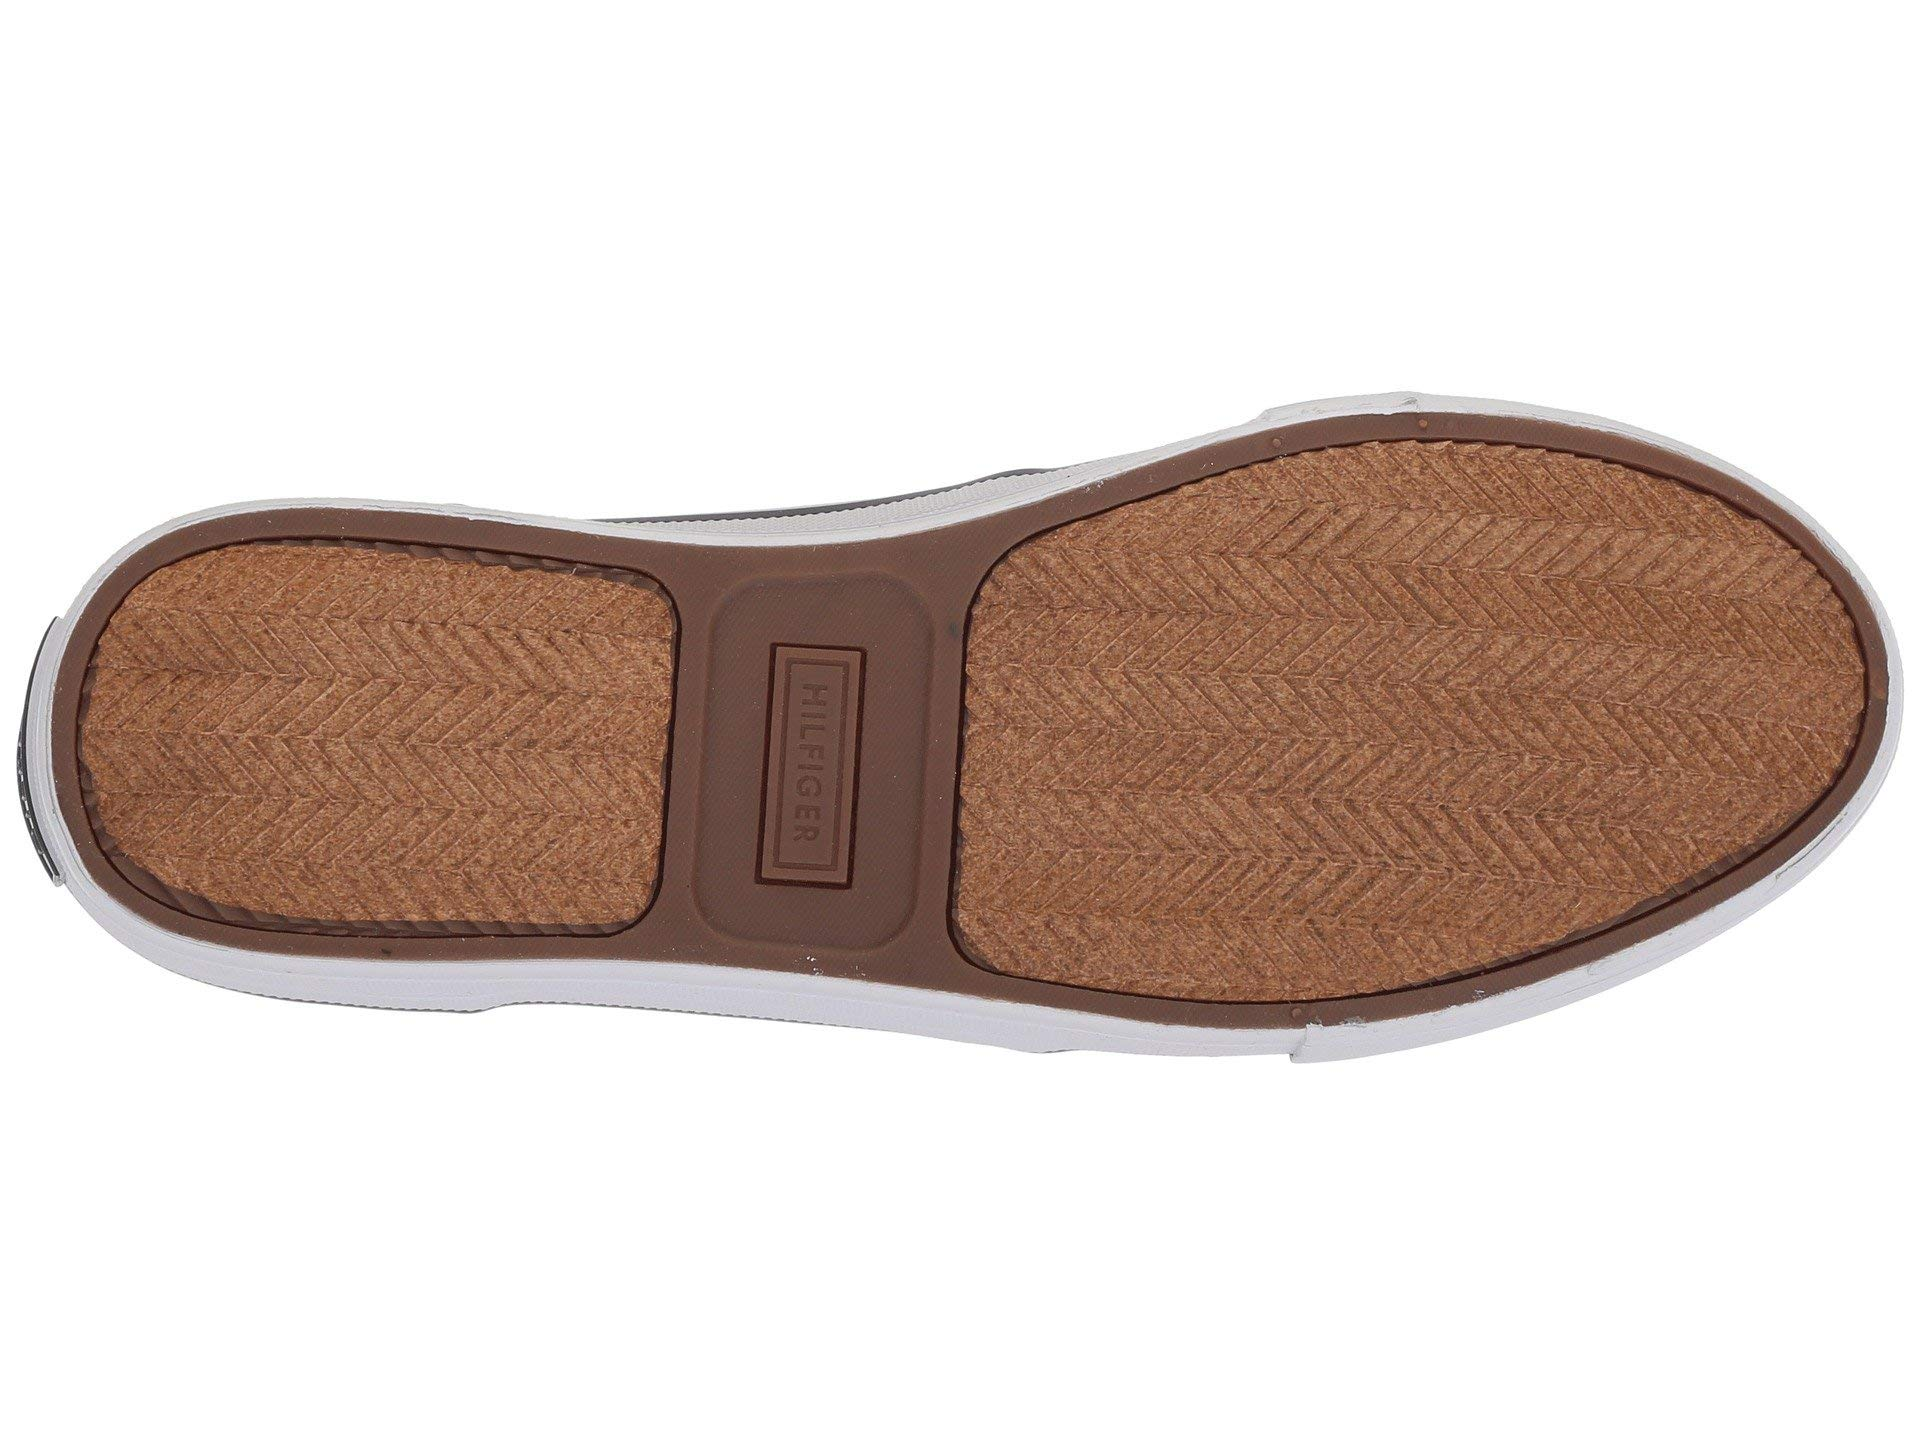chevron: (1181, 526, 1483, 883)
quad: (658, 563, 952, 982)
text: (658, 563, 952, 982)
